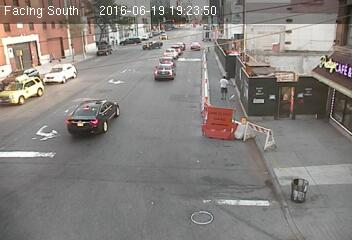neg: (199, 24, 213, 42), (98, 41, 110, 56)
pos: (215, 74, 235, 100)
